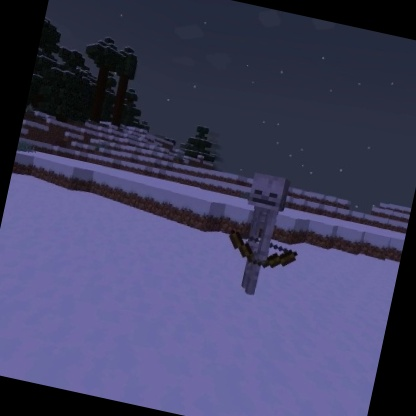skeleton: (215, 165, 316, 306)
